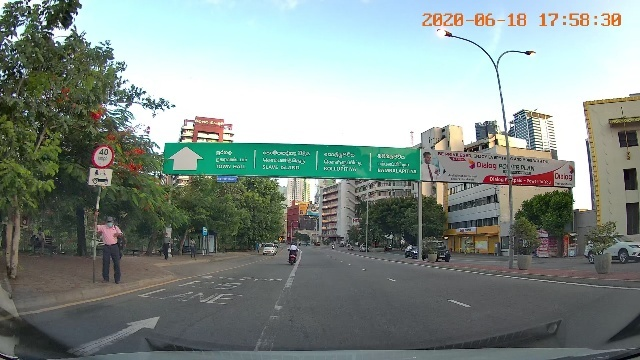BL: (131, 278, 248, 306)
SA: (61, 314, 162, 360)
